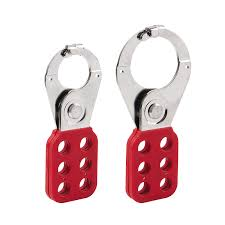hasp: (114, 24, 193, 203), (43, 44, 103, 202)
